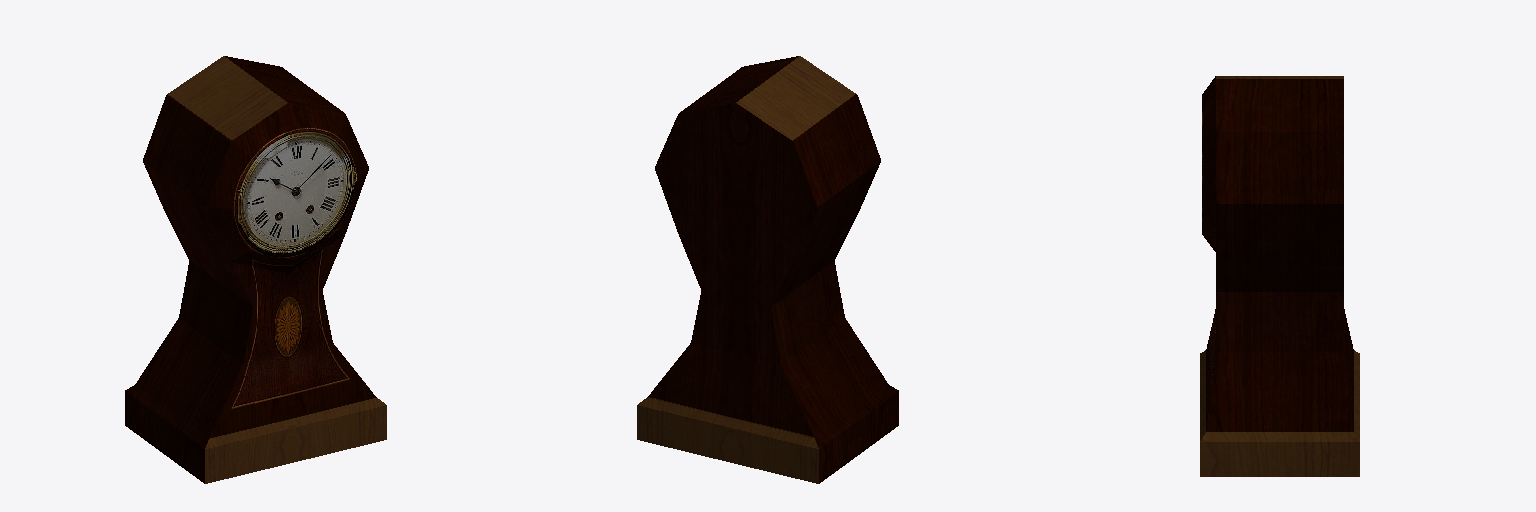
The picture shows the model from 3 angles: view 1: azimuth 30°, elevation 25°; view 2: azimuth 150°, elevation 25°; view 3: azimuth 270°, elevation 25°; orthographic projection.
Parts seen in each view (by area): view 1: clock; view 2: clock; view 3: clock.
Boxes of the visible parts, x1,y1,x2,y2 form: clock: [125, 56, 386, 483]; clock: [637, 56, 898, 483]; clock: [1200, 76, 1359, 476].
Size of the model in its own units: 2.24 by 4.15 by 1.71.
1 materials, 1 textured.